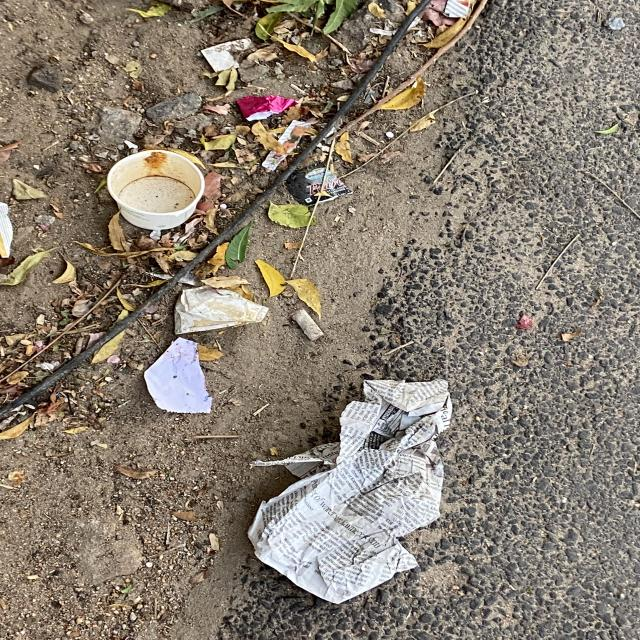giay: (247, 380, 452, 604)
giay_goi: (286, 162, 352, 206), (236, 95, 296, 121)
ly_hop_giay: (106, 150, 204, 230)
rac_huu_co: (0, 0, 428, 418)
